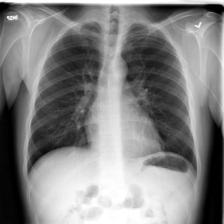normal: (25, 18, 201, 184)
